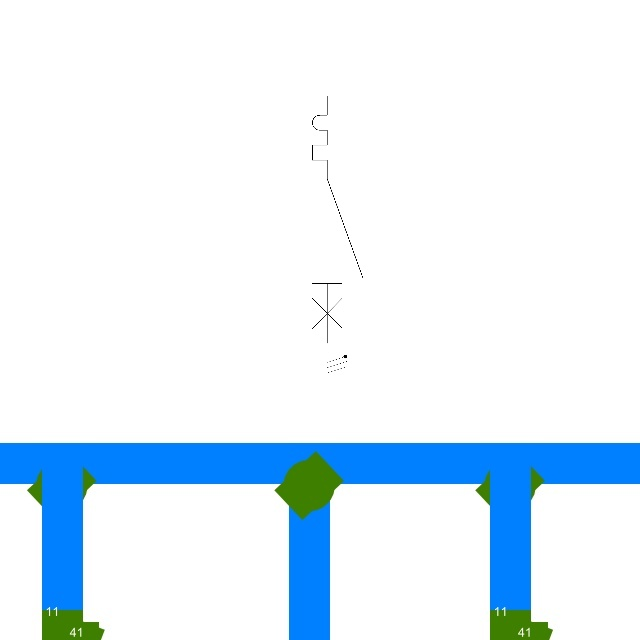interruptor_termomagnetico: (306, 90, 369, 350)
